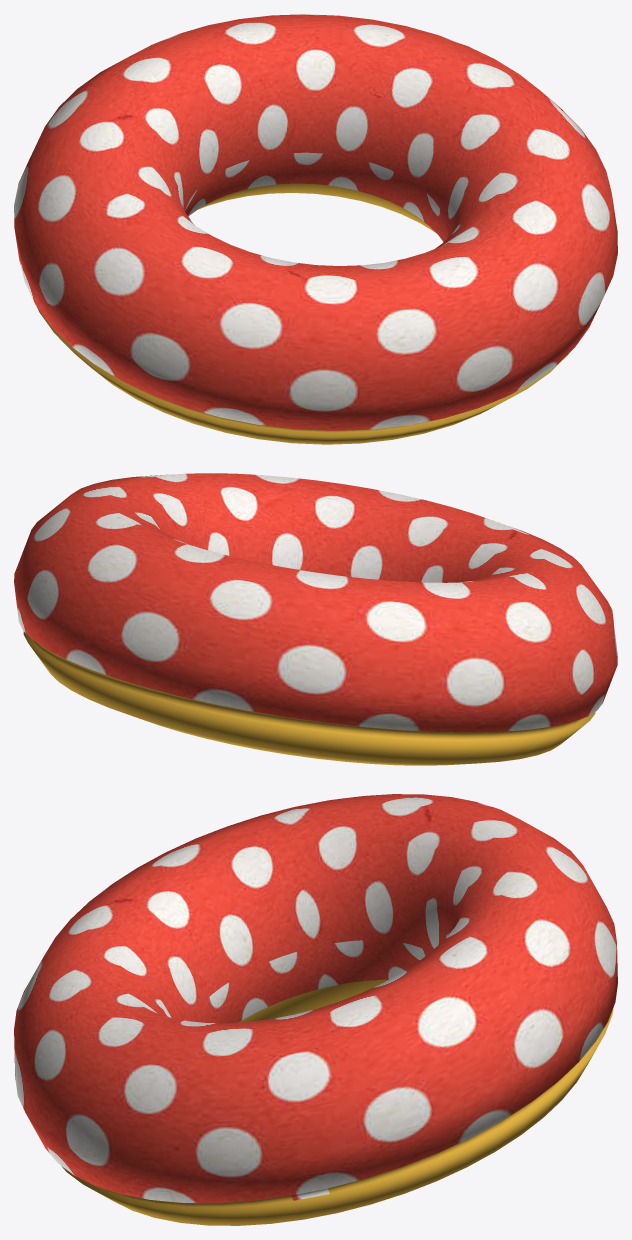
File: flotador.fbx
3 renders of one model, top to bottom at view 1: azimuth 30°, elevation 25°; view 2: azimuth 150°, elevation 25°; view 3: azimuth 270°, elevation 25°, orthographic. The views are drawn at different scales.
Visible parts, largest first — view 1: Torus; view 2: Torus; view 3: Torus.
Boxes of the visible parts, <box> form: Torus: <box>14,14,617,444</box>; Torus: <box>14,473,617,765</box>; Torus: <box>14,794,617,1225</box>.
Bounding box in the file's own units: 80.92 × 36.6 × 71.56.
2 materials, 1 textured.
